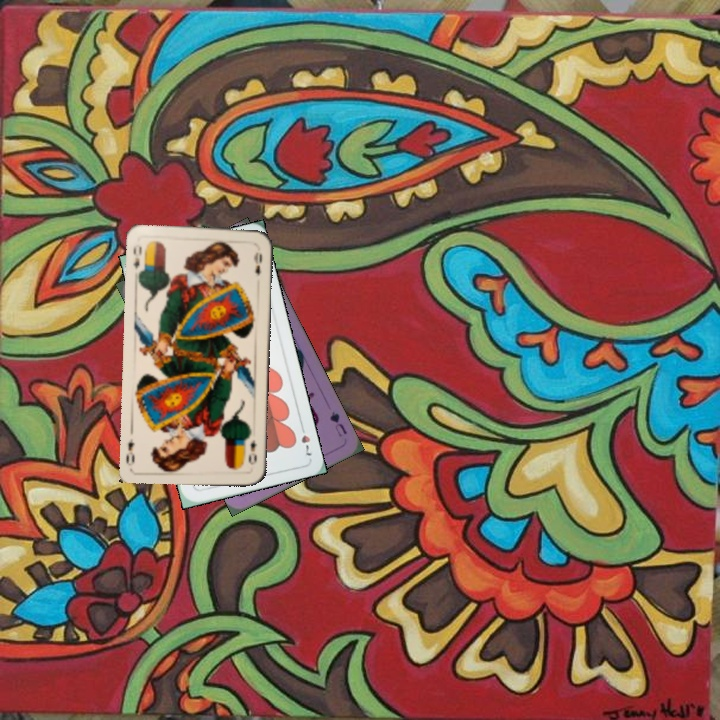EO: (244, 436, 259, 467), (129, 242, 144, 272)
GU: (326, 407, 349, 439)
H7: (296, 420, 314, 459)
